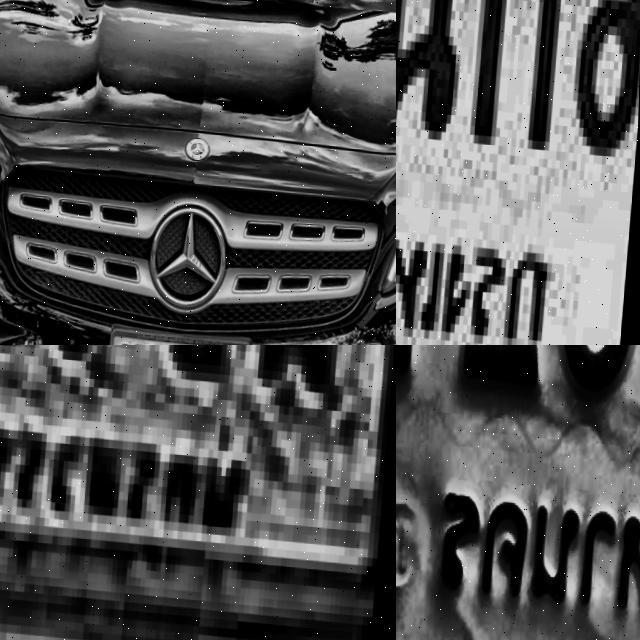license-plate: (0, 345, 396, 640), (396, 0, 640, 345), (396, 345, 640, 640), (104, 319, 258, 345)
